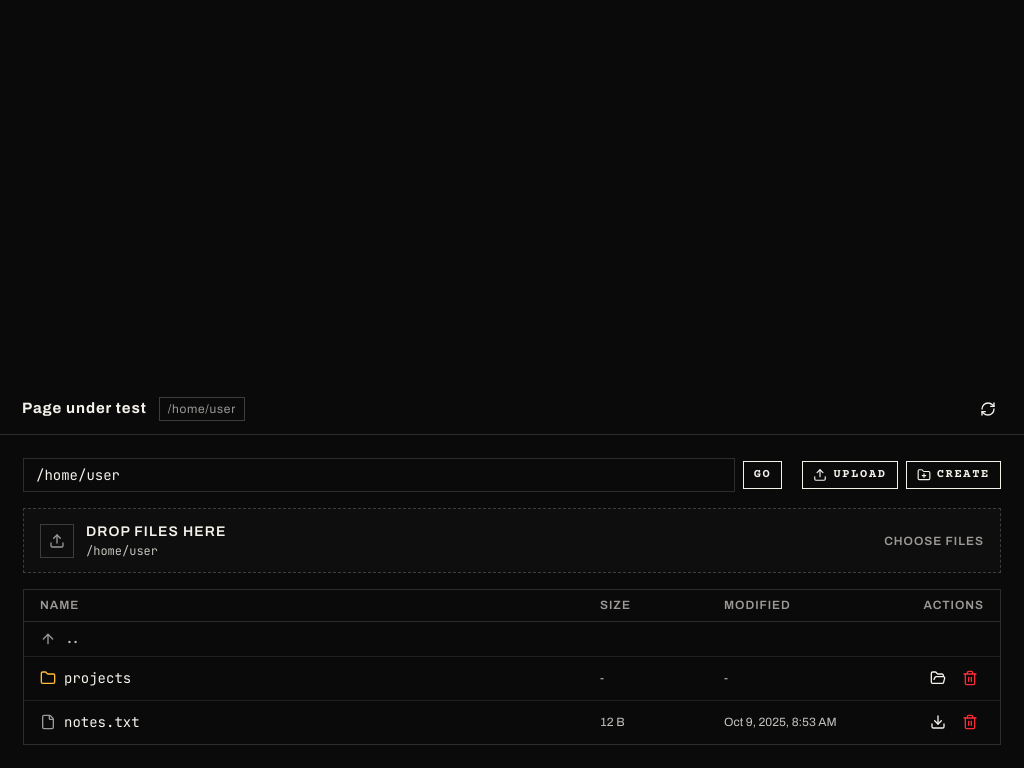
files › opens folders, goes up and previews text
(page scrolled)
Step 1. Click the button with aria-label "projects/" → coordinates (86, 678), box [40, 668, 131, 688]
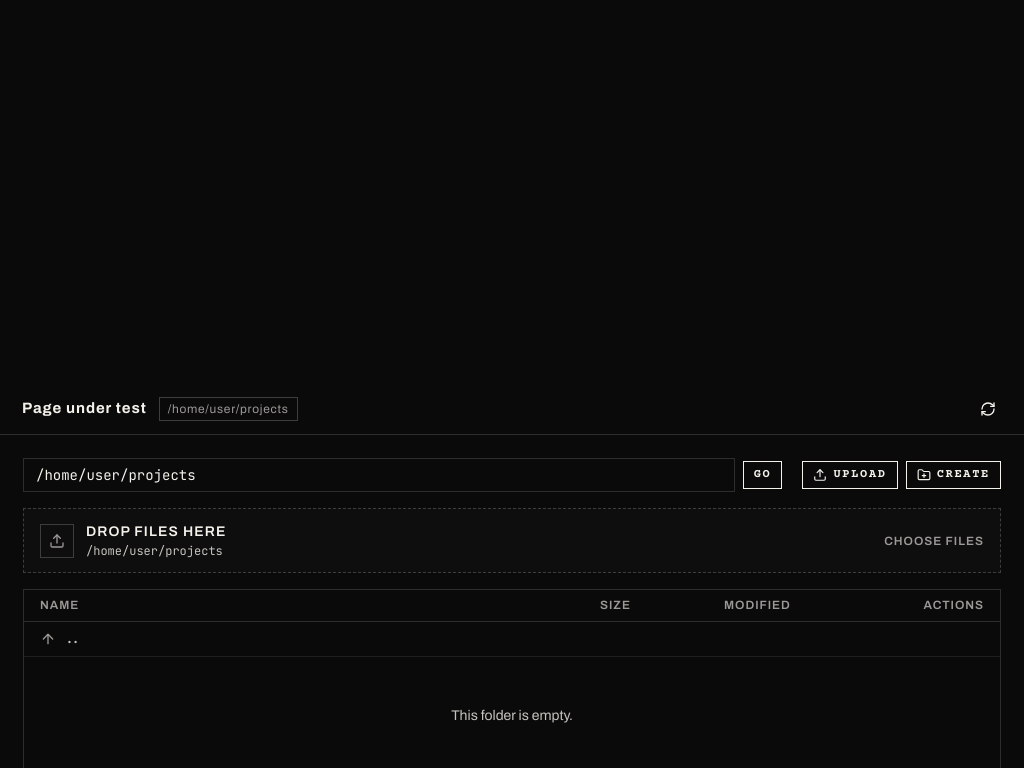
Expected: the text with test id "current-path" reads "/home/user/projects", [168, 402, 289, 416]
Step 2. Click the button ".." → coordinates (48, 638), box [24, 622, 1000, 656]
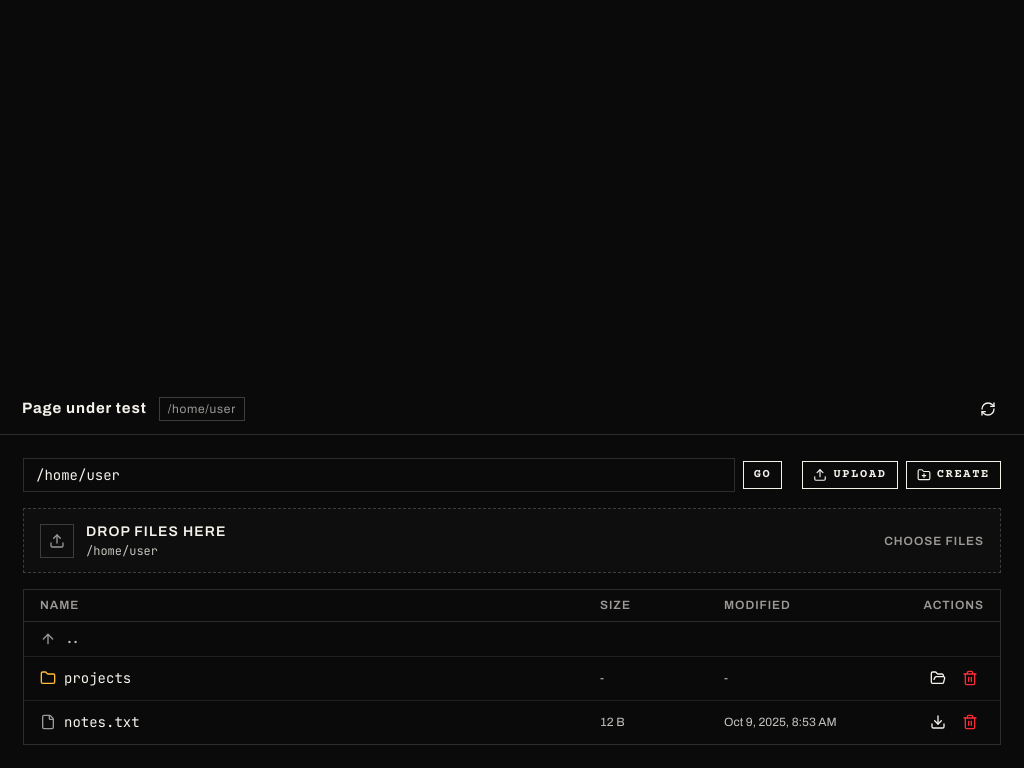
Expected: the text with test id "current-path" reads "/home/user", [168, 402, 236, 416]
Step 3. Click the button "notes.txt" → coordinates (90, 722), box [40, 712, 140, 733]
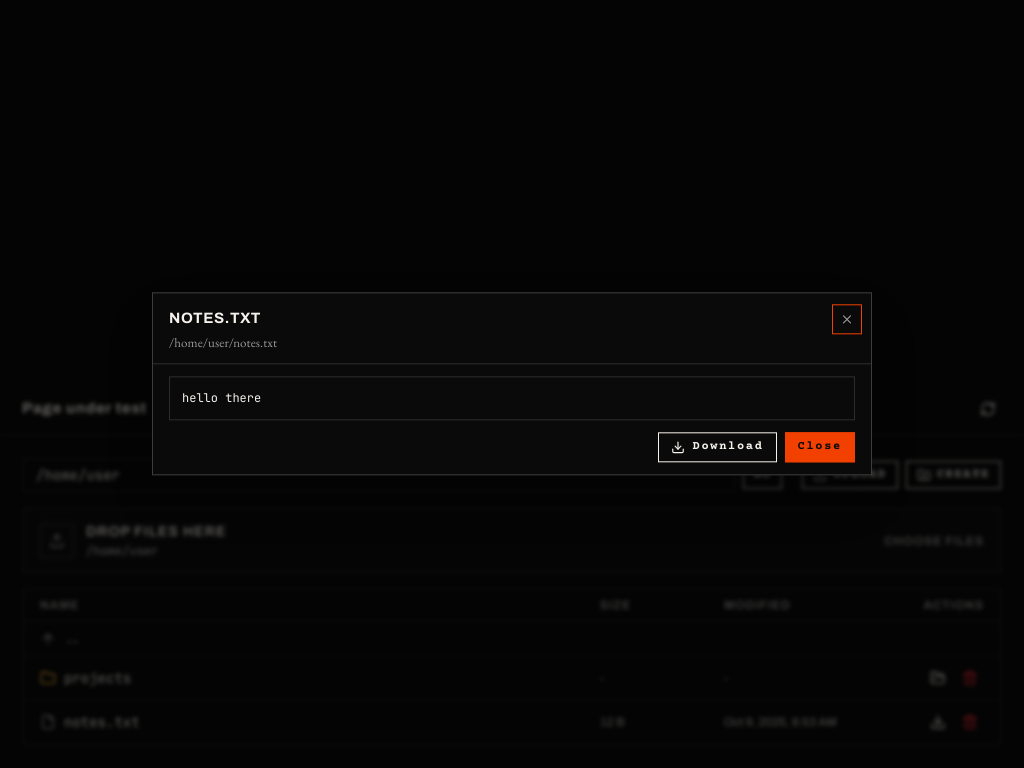
Expected: the text "hello there" is shown, [169, 377, 855, 421]
